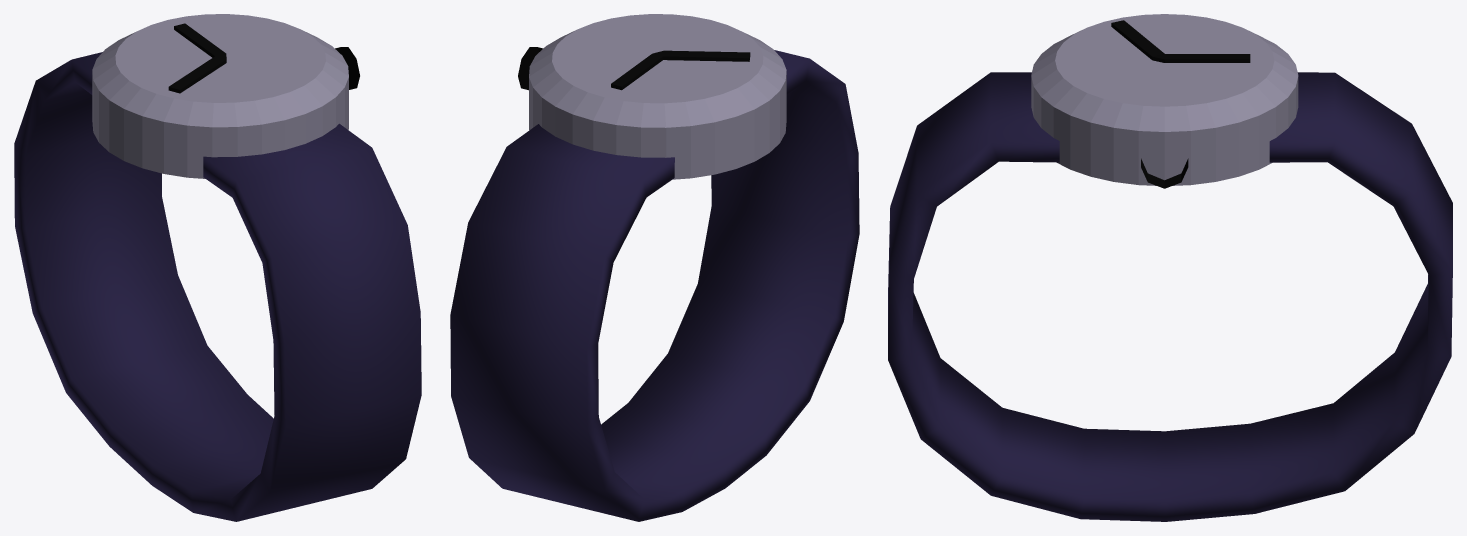
File: watch.fbx
The picture shows the model from 3 angles, left to right: view 1: azimuth 30°, elevation 25°; view 2: azimuth 150°, elevation 25°; view 3: azimuth 270°, elevation 25°; orthographic projection. The views are drawn at different scales.
Parts seen in each view (by area): view 1: Plane, Circle.001, Plane.002, Circle.002; view 2: Plane, Circle.001, Plane.002, Circle.002; view 3: Plane, Circle.001, Plane.002.
Boxes of the visible parts, left/top/right/bottom form: Plane: left=14, top=52, right=421, bottom=521; Circle.001: left=92, top=14, right=348, bottom=178; Plane.002: left=168, top=23, right=226, bottom=93; Circle.002: left=335, top=47, right=359, bottom=89; Plane: left=450, top=50, right=859, bottom=521; Circle.001: left=529, top=14, right=786, bottom=179; Plane.002: left=611, top=50, right=750, bottom=90; Circle.002: left=518, top=47, right=542, bottom=90; Plane: left=888, top=72, right=1452, bottom=521; Circle.001: left=1031, top=14, right=1298, bottom=185; Plane.002: left=1111, top=20, right=1250, bottom=62.
Bounding box in the file's own units: 215 × 356 × 423.
